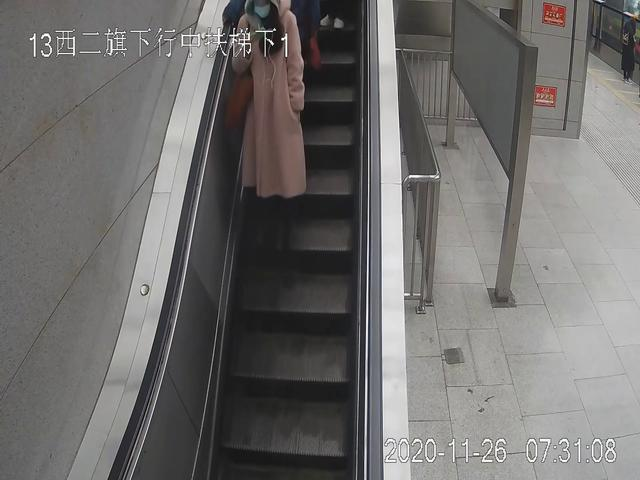person: (231, 1, 305, 258), (620, 17, 637, 84)
